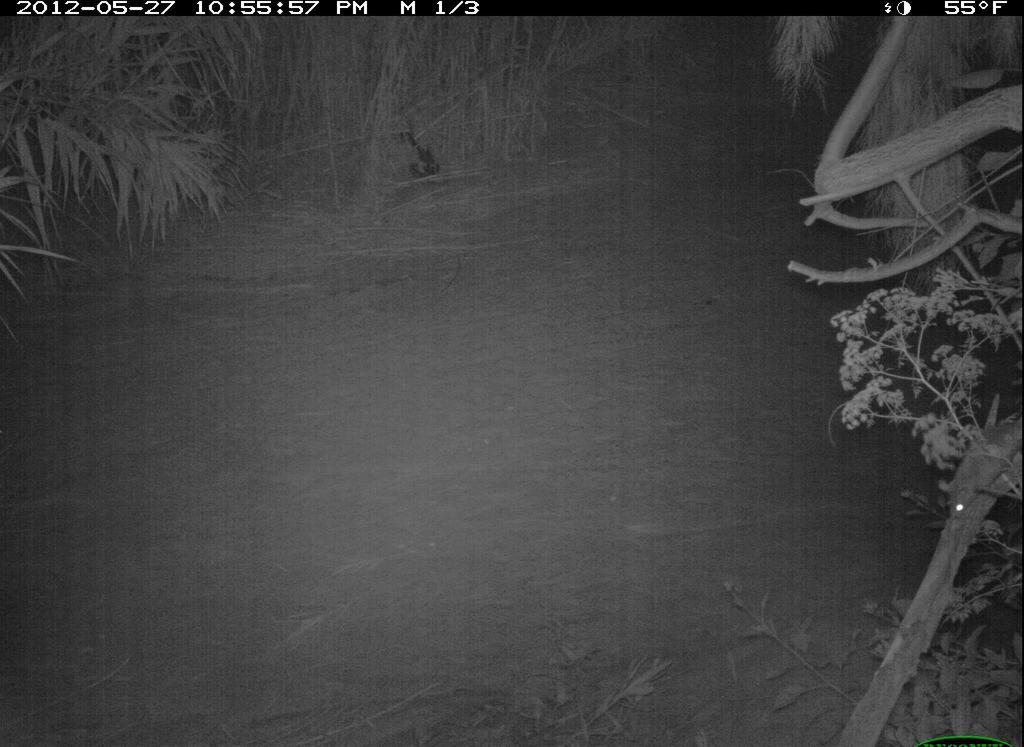rodent: (937, 413, 1024, 520)
